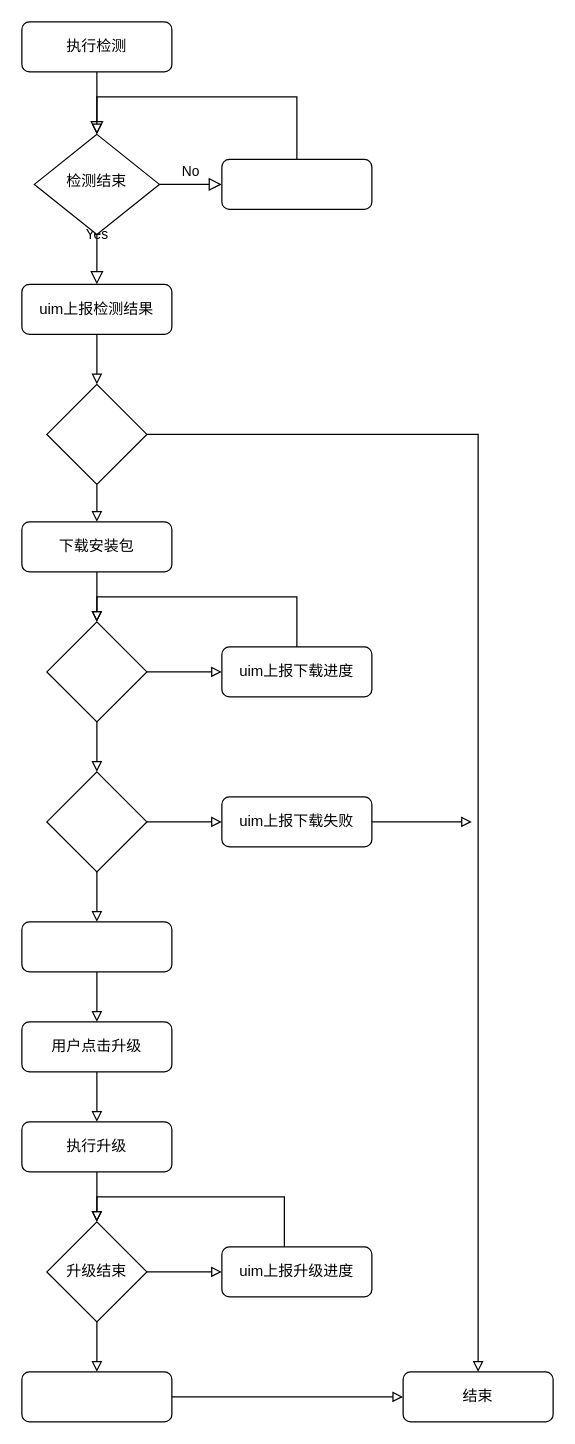
The diagram is 575 pixels wide and 1444 high, and some of its shapes have lost their labels. The box of each missing label's shape, as (x1, y1, x2, y2) in pixels:
uim上报下载成功 avnt显示小红点: (21, 921, 172, 972)
uim上报升级结果: (21, 1371, 172, 1422)
uim上报检测进度: (221, 158, 372, 209)
下载成功: (46, 771, 147, 872)
下载结束: (46, 621, 147, 722)
检测成功: (46, 383, 147, 484)
